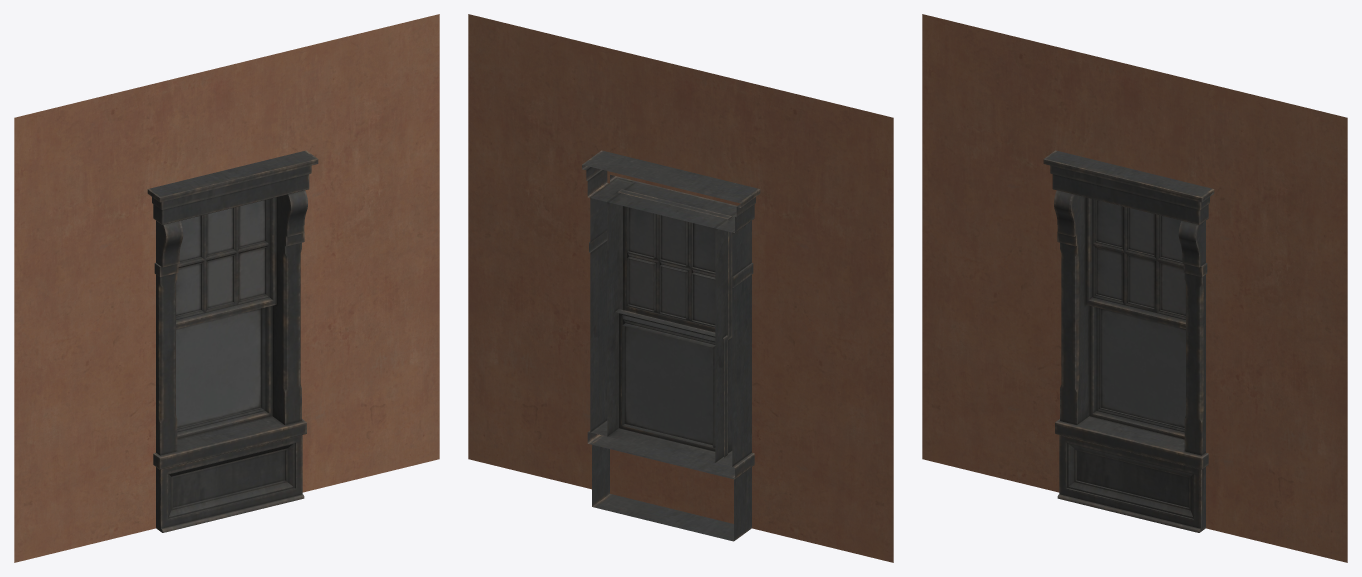
File: facade-small.glb
3 renders of one model, left to right at view 1: azimuth 30°, elevation 25°; view 2: azimuth 150°, elevation 25°; view 3: azimuth 330°, elevation 25°, orthographic.
Visible parts, largest first — view 1: wall_window_centered_small_01, window_centered_small_01; view 2: wall_window_centered_small_01, window_centered_small_01; view 3: wall_window_centered_small_01, window_centered_small_01.
Part boxes in pixels (x1,y1,x2,y2): wall_window_centered_small_01: (14,14,439,562); window_centered_small_01: (147,150,318,532); wall_window_centered_small_01: (468,14,893,562); window_centered_small_01: (582,150,760,541); wall_window_centered_small_01: (922,14,1347,562); window_centered_small_01: (1043,150,1214,532).
Bounding box in the file's own units: 3 × 3 × 0.39.
3 materials, 3 textured.
